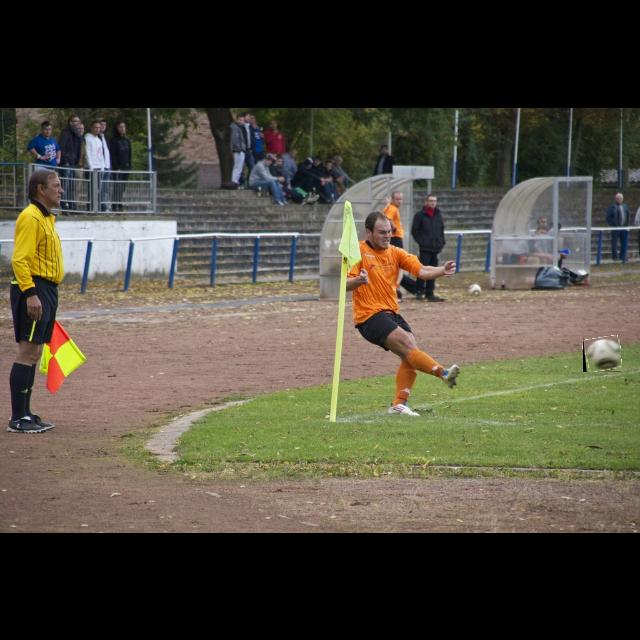Football: (583, 336, 621, 372)
